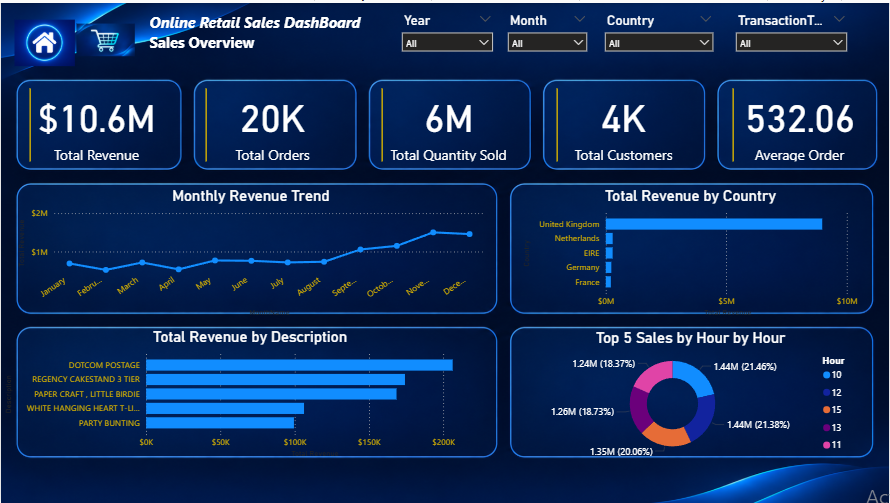

The page's visual inventory and layout, read from the dashboard file:
{"tool":"powerbi","page":{"name":"Page 1","canvas":[1280,720],"ordinal":1},"visuals":[{"type":"textbox","box":[208.3,8.4,347.7,89],"z":0},{"type":"cardVisual","fields":{"Data":["Online_Retail_Cleaned.Total Revenue"]},"box":[36,118.1,203,115.2],"z":1000},{"type":"cardVisual","fields":{"Data":["Online_Retail_Cleaned.Total Orders"]},"box":[289.4,118.1,203,115.2],"z":2000},{"type":"cardVisual","fields":{"Data":["Online_Retail_Cleaned.Average Order Value"]},"box":[1048.3,118.1,203,115.2],"z":3000},{"type":"cardVisual","fields":{"Data":["Online_Retail_Cleaned.Total Customers"]},"box":[794.9,118.1,203,115.2],"z":4000},{"type":"cardVisual","fields":{"Data":["Online_Retail_Cleaned.Total Quantity Sold"]},"box":[542.9,118.1,203,115.2],"z":5000},{"type":"lineChart","title":"Monthly Revenue Trend","fields":{"Category":["Online_Retail_Cleaned.MonthName"],"Y":["Online_Retail_Cleaned.Total Revenue"]},"box":[18.5,265.4,682,191.5],"z":6000},{"type":"clusteredBarChart","fields":{"Category":["Online_Retail_Cleaned.Country"],"Y":["Online_Retail_Cleaned.Total Revenue"]},"box":[745.8,265.4,493.9,191.5],"z":7000},{"type":"clusteredBarChart","fields":{"Category":["Online_Retail_Cleaned.Description"],"Y":["Online_Retail_Cleaned.Total Revenue"]},"box":[0,468.7,717.3,191.5],"z":8000},{"type":"donutChart","title":"Top 5 Sales by Hour by Hour","fields":{"Category":["Online_Retail_Cleaned.Hour"],"Y":["Online_Retail_Cleaned.Total Sales by Hour"]},"box":[746,469,494,191],"z":9000},{"type":"slicer","fields":{"Values":["Online_Retail_Cleaned.Year"]},"box":[567.8,8.4,151.2,75.6],"z":10000},{"type":"slicer","fields":{"Values":["Online_Retail_Cleaned.Month"]},"box":[720.6,8.4,134.4,75.6],"z":11000},{"type":"slicer","fields":{"Values":["Online_Retail_Cleaned.Country"]},"box":[860.1,8.4,176.4,75.6],"z":12000},{"type":"slicer","fields":{"Values":["Online_Retail_Cleaned.TransactionType"]},"box":[1048.2,8.4,179.7,75.6],"z":13000},{"type":"image","box":[104.1,8.4,94.1,89],"z":14000},{"type":"image","box":[15.1,13.4,97.4,89],"z":14001}]}

Visuals, with their boxes in screenshot pixels (x1, y1, x2, y2), scaled from the page's 1280x720 canvas onto the 890x503 screenshot:
textbox: [145, 6, 387, 68]
cardVisual - Online_Retail_Cleaned.Total Revenue: [25, 83, 166, 163]
cardVisual - Online_Retail_Cleaned.Total Orders: [201, 83, 342, 163]
cardVisual - Online_Retail_Cleaned.Average Order Value: [729, 83, 870, 163]
cardVisual - Online_Retail_Cleaned.Total Customers: [553, 83, 694, 163]
cardVisual - Online_Retail_Cleaned.Total Quantity Sold: [377, 83, 519, 163]
"Monthly Revenue Trend" lineChart: [13, 185, 487, 319]
clusteredBarChart - Online_Retail_Cleaned.Country x Online_Retail_Cleaned.Total Revenue: [519, 185, 862, 319]
clusteredBarChart - Online_Retail_Cleaned.Description x Online_Retail_Cleaned.Total Revenue: [0, 327, 499, 461]
"Top 5 Sales by Hour by Hour" donutChart: [519, 328, 862, 461]
slicer - Online_Retail_Cleaned.Year: [395, 6, 500, 59]
slicer - Online_Retail_Cleaned.Month: [501, 6, 594, 59]
slicer - Online_Retail_Cleaned.Country: [598, 6, 721, 59]
slicer - Online_Retail_Cleaned.TransactionType: [729, 6, 854, 59]
image: [72, 6, 138, 68]
image: [10, 9, 78, 72]
